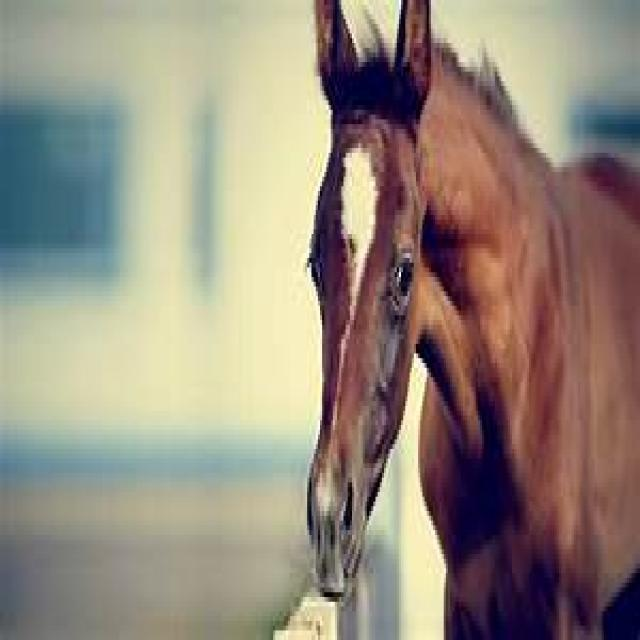horse: (308, 0, 640, 637)
